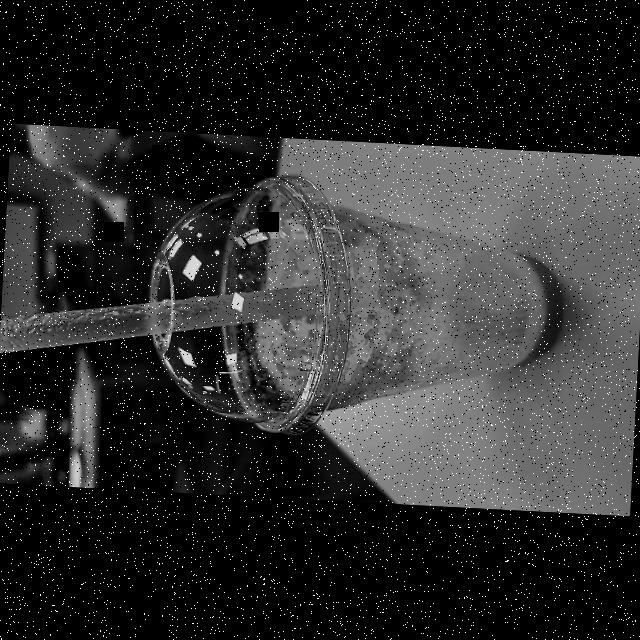plastic_cup: (130, 162, 576, 454)
plastic_cup_lid: (137, 164, 362, 451)
straw: (5, 289, 317, 352)
